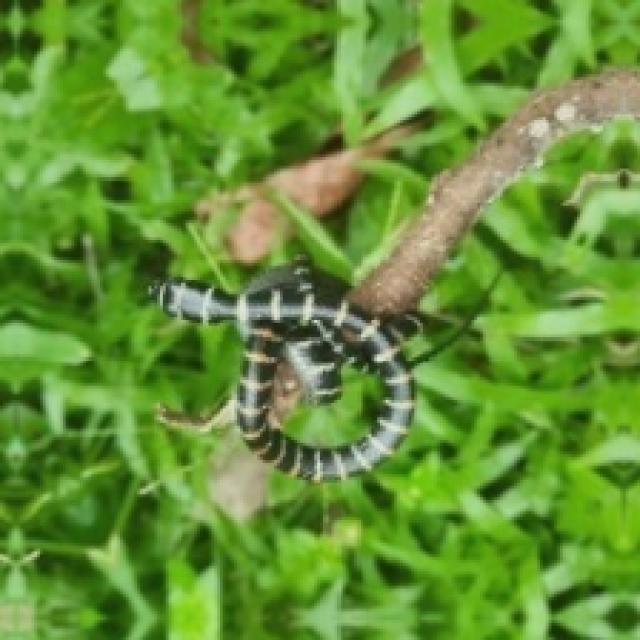paradise tree snake: (154, 260, 409, 480)
